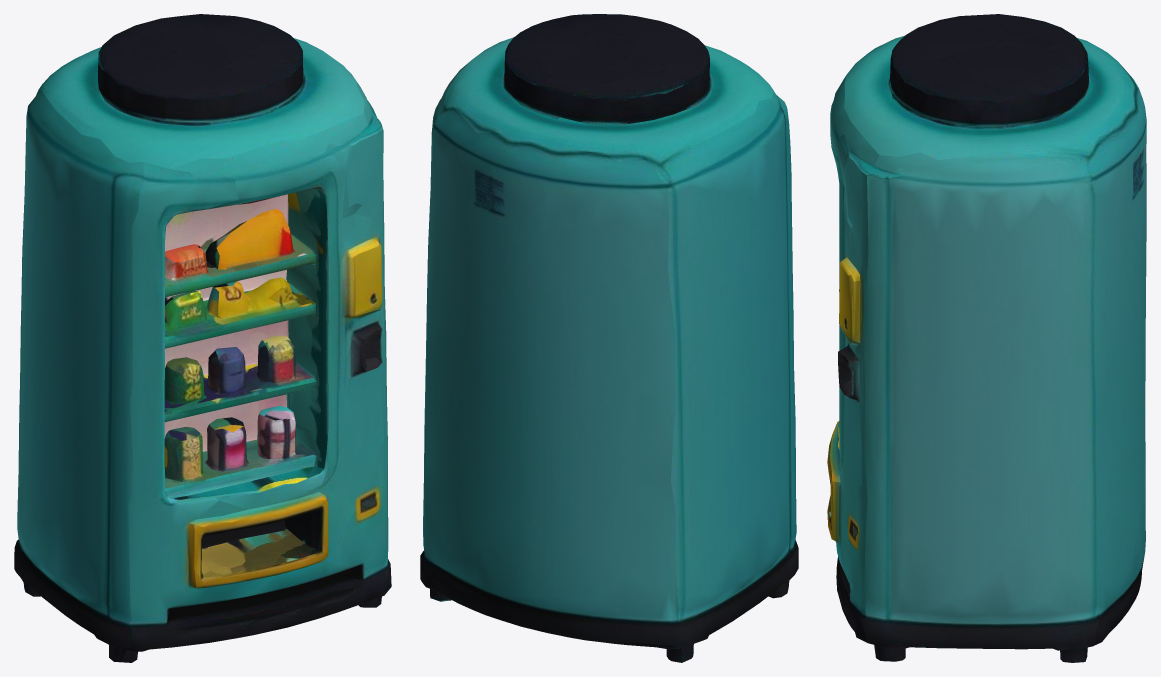
File: vending.glb
3 renders of one model, left to right at view 1: azimuth 30°, elevation 25°; view 2: azimuth 150°, elevation 25°; view 3: azimuth 270°, elevation 25°, orthographic.
Visible parts, largest first — view 1: vending; view 2: vending; view 3: vending.
Boxes of the visible parts, left/top/right/bottom form: vending: left=14, top=14, right=391, bottom=662; vending: left=420, top=14, right=798, bottom=662; vending: left=827, top=14, right=1146, bottom=662.
Size of the model in its own units: 0.5706 by 1 by 0.5316.
1 material, 1 textured.
